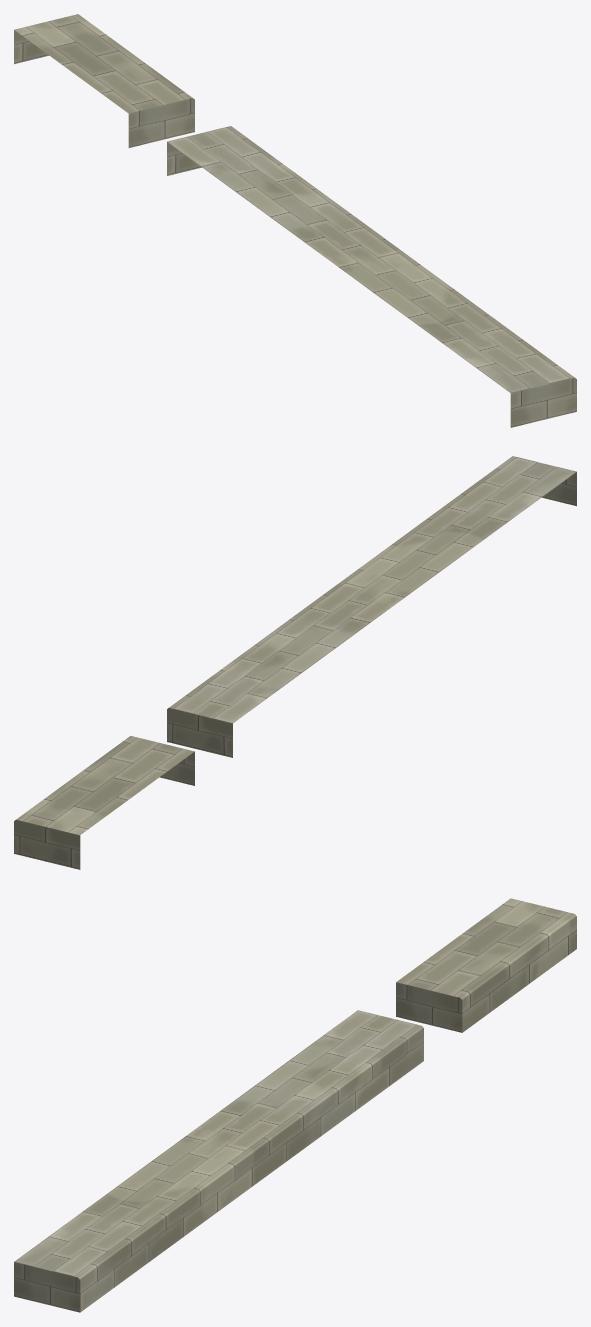
File: Tiles2.fbx
3 renders of one model, top to bottom at view 1: azimuth 30°, elevation 25°; view 2: azimuth 150°, elevation 25°; view 3: azimuth 330°, elevation 25°, orthographic.
Parts seen in each view (by area): view 1: bricks_largeThin, bricks_mediumThin, bricks_largeThin_L, bricks_mediumThin_L, bricks_mediumThin_R, bricks_largeThin_R; view 2: bricks_largeThin, bricks_mediumThin, bricks_mediumThin_R, bricks_largeThin_R, bricks_mediumThin_L, bricks_largeThin_L; view 3: bricks_largeThin, bricks_mediumThin, bricks_mediumThin_L, bricks_largeThin_L.
Part boxes in pixels (box(x1,y1,x2,y2)): bricks_largeThin: box(167, 126, 574, 393); bricks_mediumThin: box(14, 14, 192, 113); bricks_largeThin_L: box(510, 377, 576, 427); bricks_mediumThin_L: box(128, 98, 194, 147); bricks_mediumThin_R: box(14, 30, 48, 64); bricks_largeThin_R: box(167, 142, 201, 175); bricks_largeThin: box(169, 456, 576, 723); bricks_mediumThin: box(16, 736, 194, 835); bricks_mediumThin_R: box(14, 819, 80, 869); bricks_largeThin_R: box(167, 708, 232, 757); bricks_mediumThin_L: box(159, 751, 194, 785); bricks_largeThin_L: box(542, 472, 576, 506); bricks_largeThin: box(14, 1010, 423, 1312); bricks_mediumThin: box(396, 898, 576, 1032); bricks_mediumThin_L: box(396, 982, 462, 1032); bricks_largeThin_L: box(14, 1262, 80, 1312).
Size of the model in its own units: 10 by 5 by 130.
Materials: 2 (2 with a texture image).
